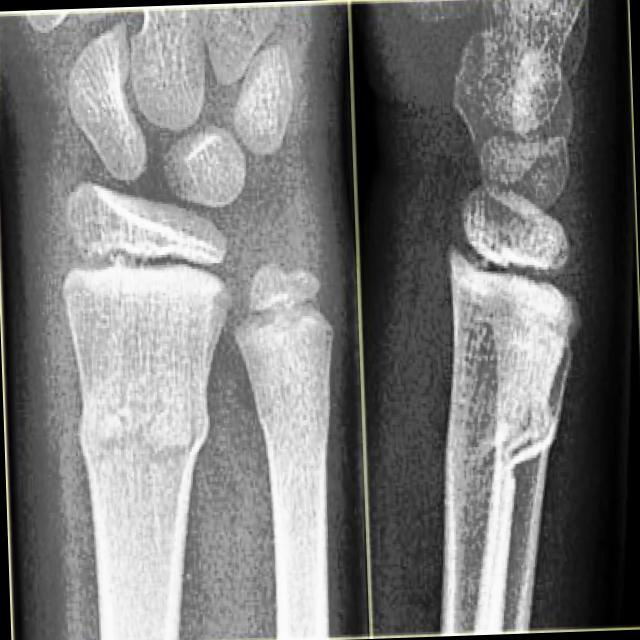GreenStick Fracture: (488, 426, 553, 473)
